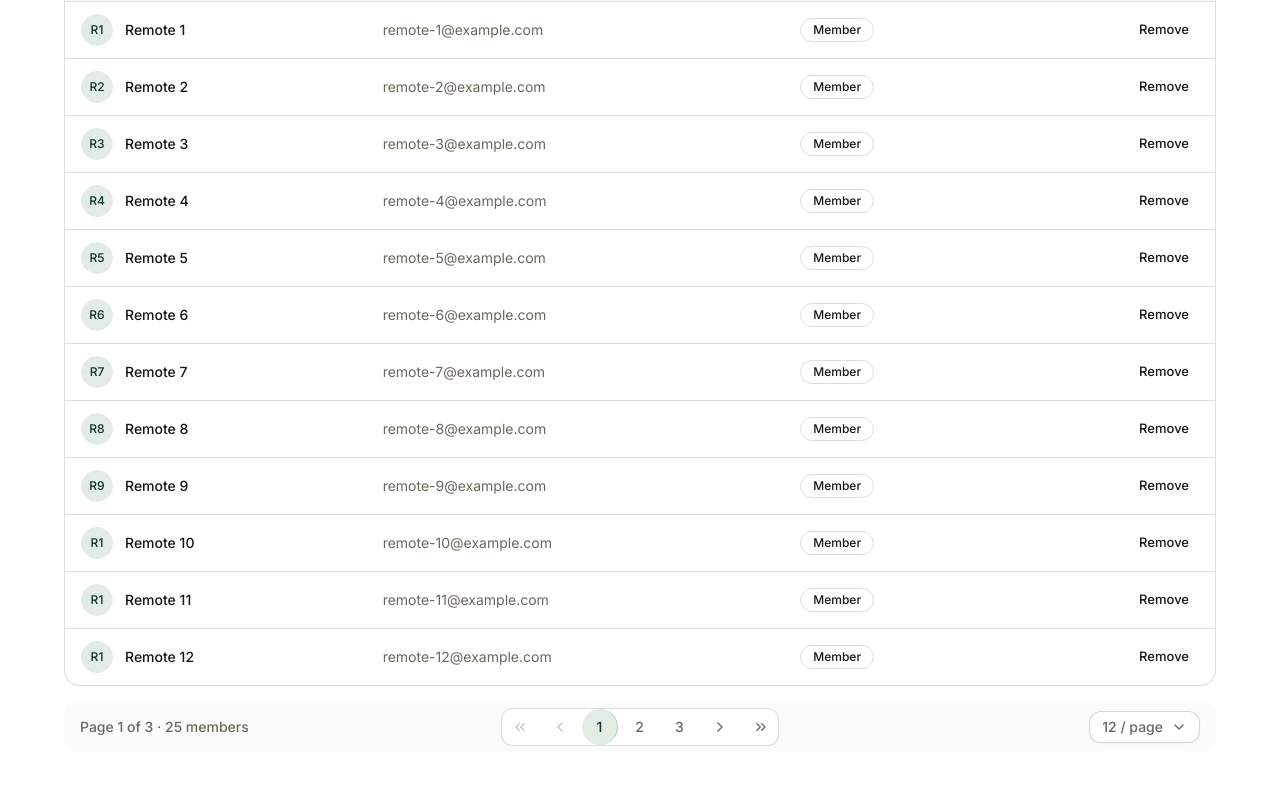
Test: DesignerBranches › loads branch member pages and searches email through the API
(page scrolled)
Expected: the text "Remote 1" is shown, [125,20,185,40]
Click the button named "Next page": (720, 726) [702,708,738,744]
(page scrolled)
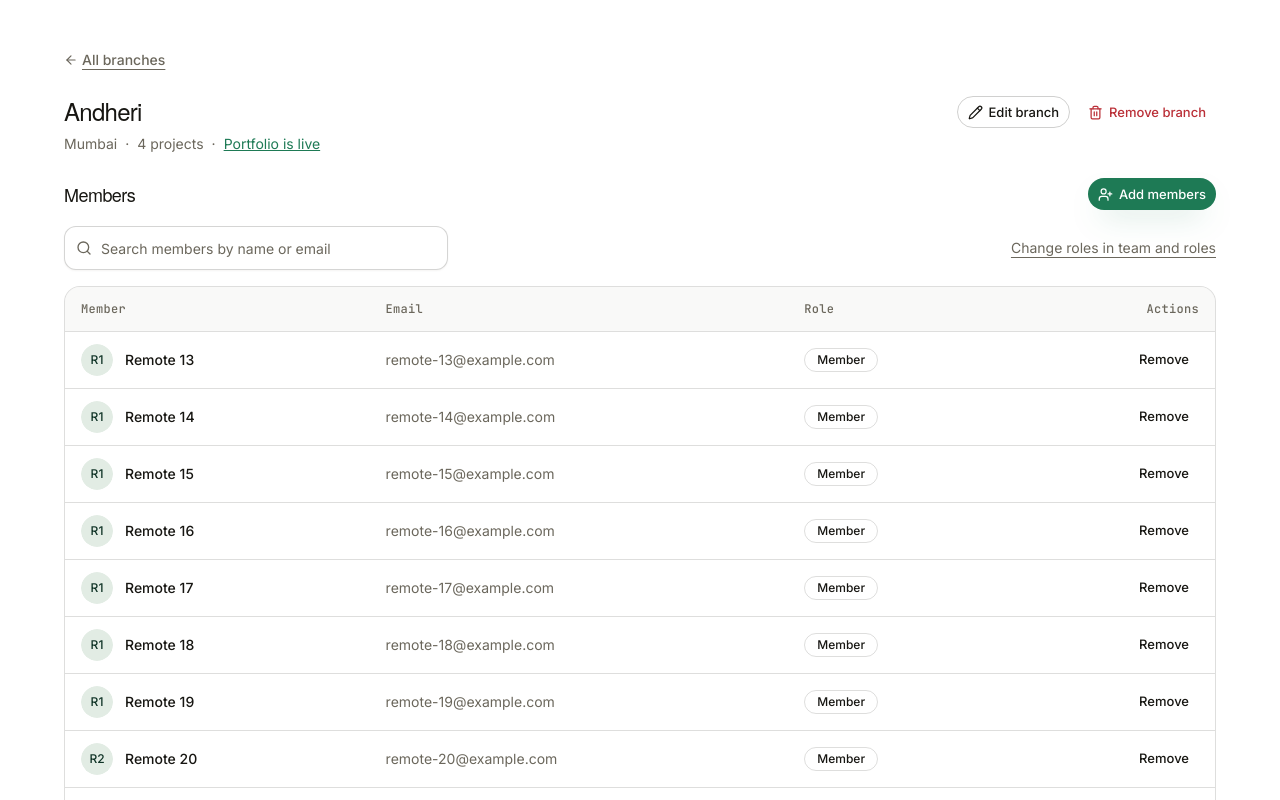
Expected: the text "Remote 13" is shown, [125,350,194,370]
In the search field labelled "Search members by name or email": (256, 248) [64,226,448,270], type "REMOTE-25@EXAMPLE.COM"
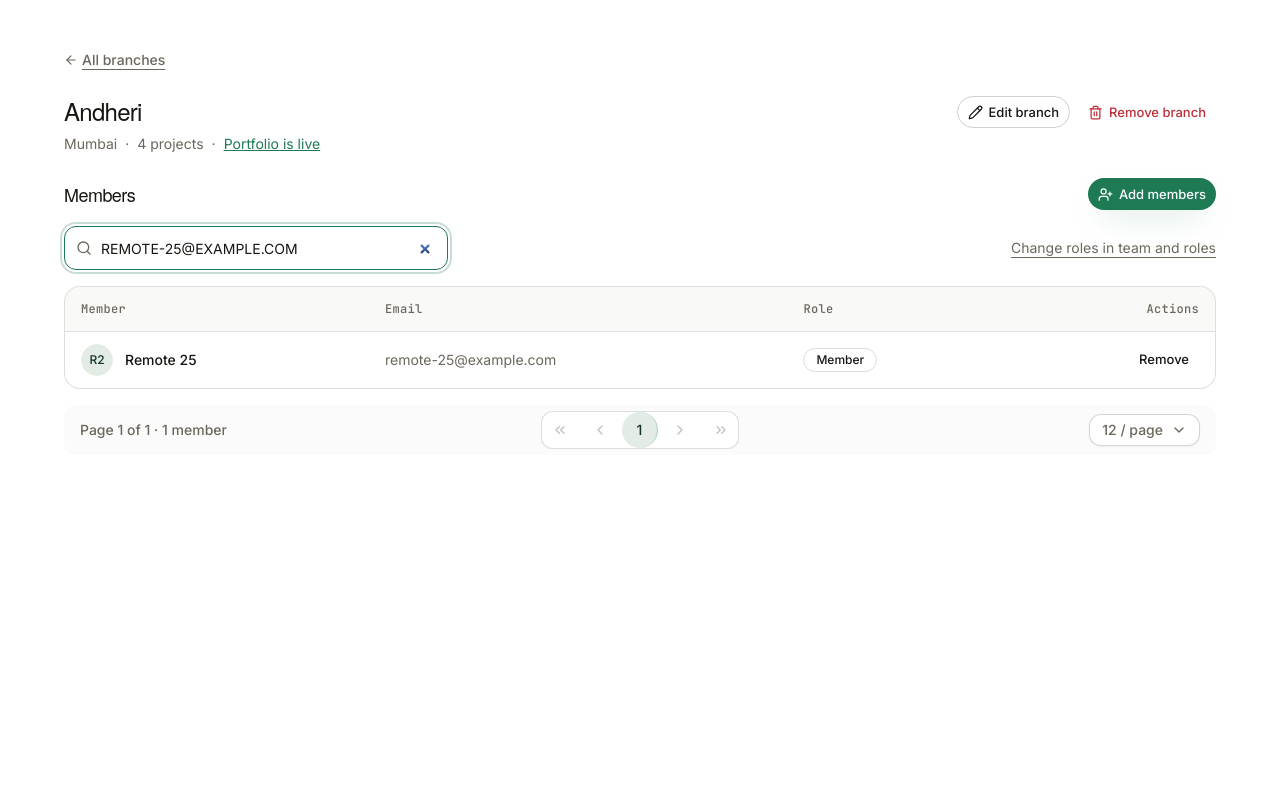
Expected: the text "Remote 25" is shown, [125,350,197,370]
